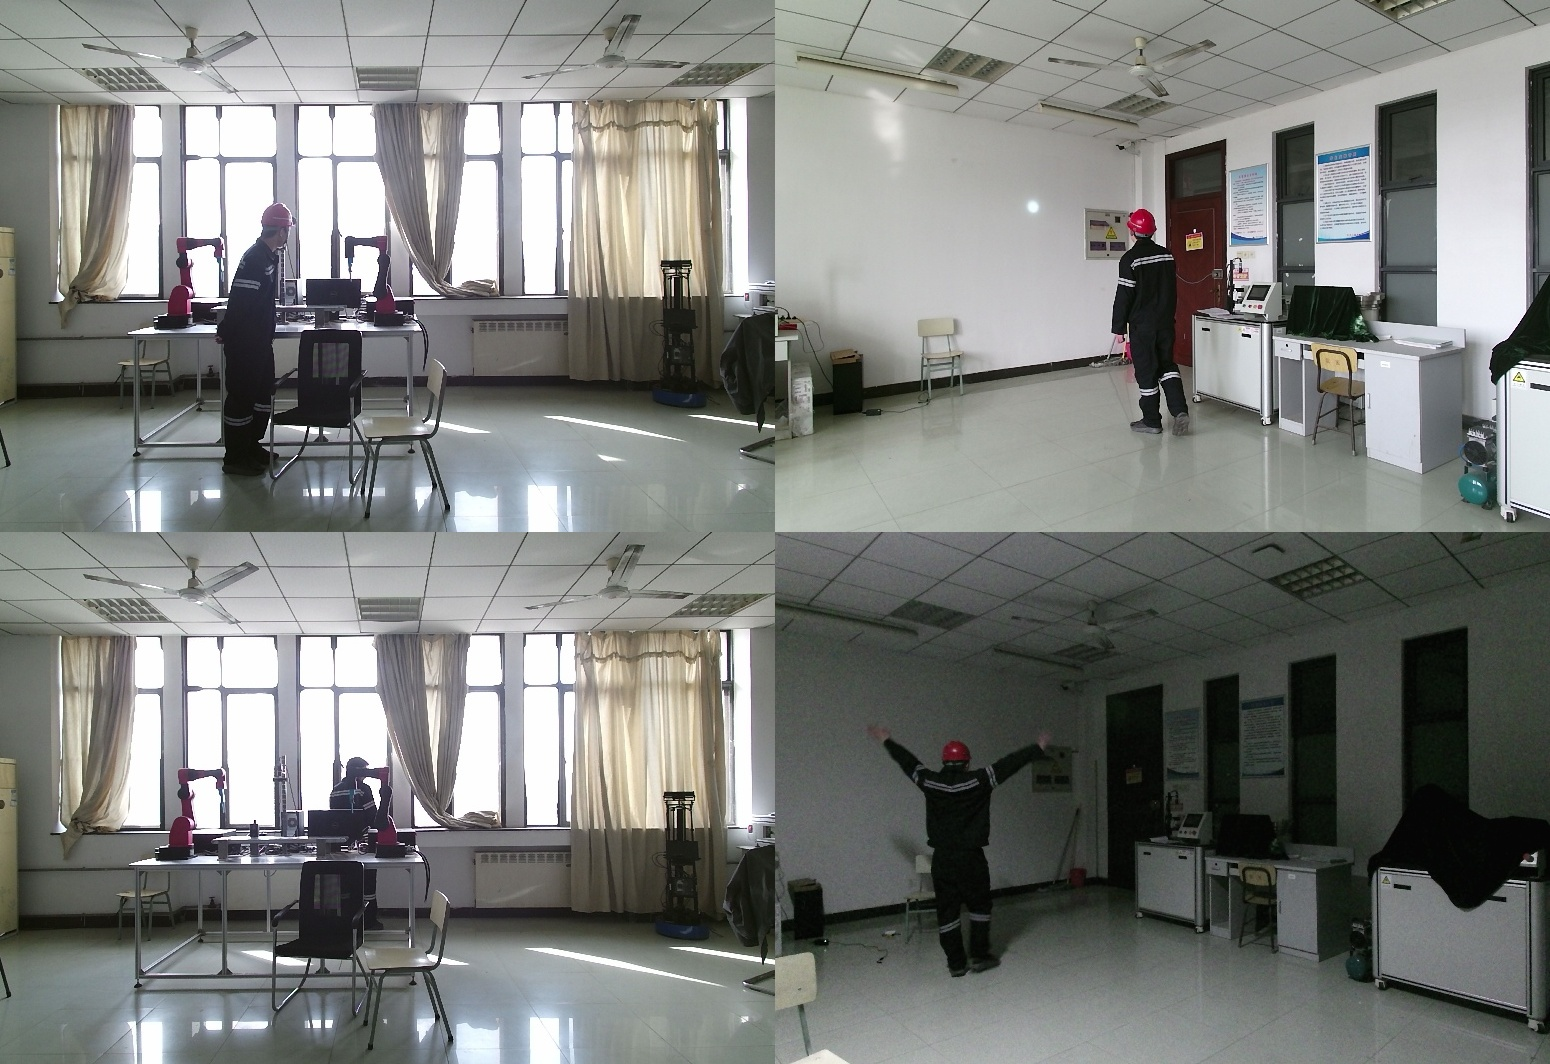person: (865, 741, 1066, 977), (220, 204, 293, 478), (1113, 210, 1197, 444), (332, 758, 392, 935)
